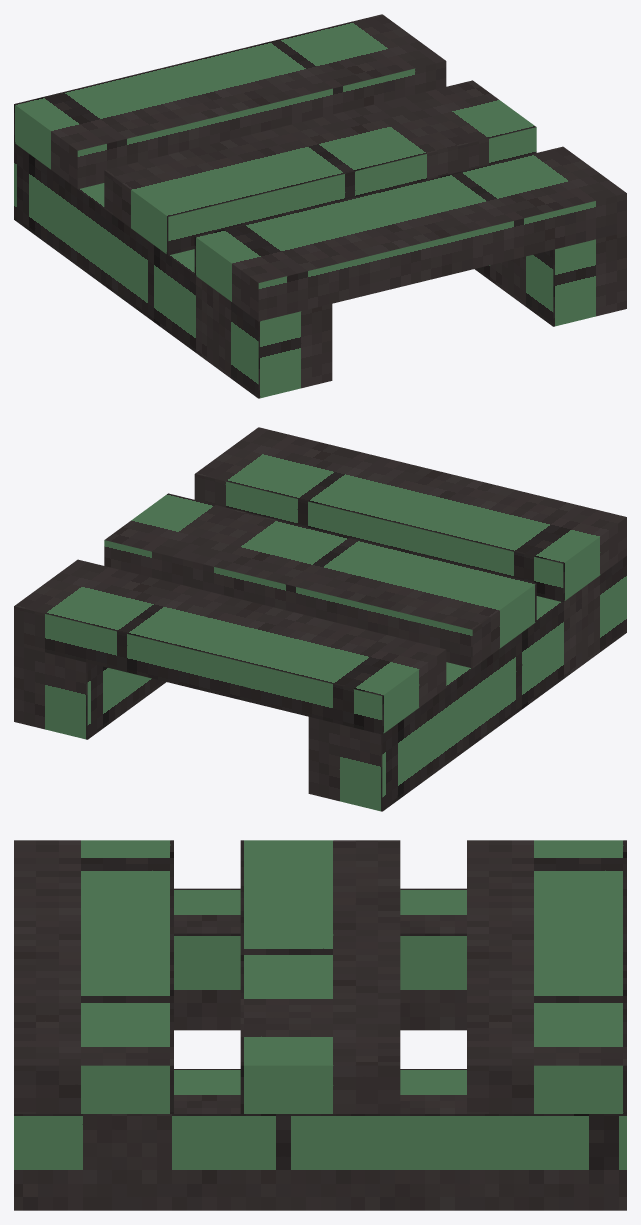
File: pallet_small.glb
The picture shows the model from 3 angles, top to bottom: view 1: azimuth 30°, elevation 25°; view 2: azimuth 150°, elevation 25°; view 3: azimuth 270°, elevation 25°; orthographic projection. The views are drawn at different scales.
Parts seen in each view (by area): view 1: pallet-small; view 2: pallet-small; view 3: pallet-small.
Boxes of the visible parts, x1,y1,x2,y2 form: pallet-small: (14, 14, 626, 398); pallet-small: (14, 427, 626, 811); pallet-small: (14, 840, 626, 1210).
Size of the model in its own units: 0.5 by 0.15 by 0.575.
1 material, 1 textured.
